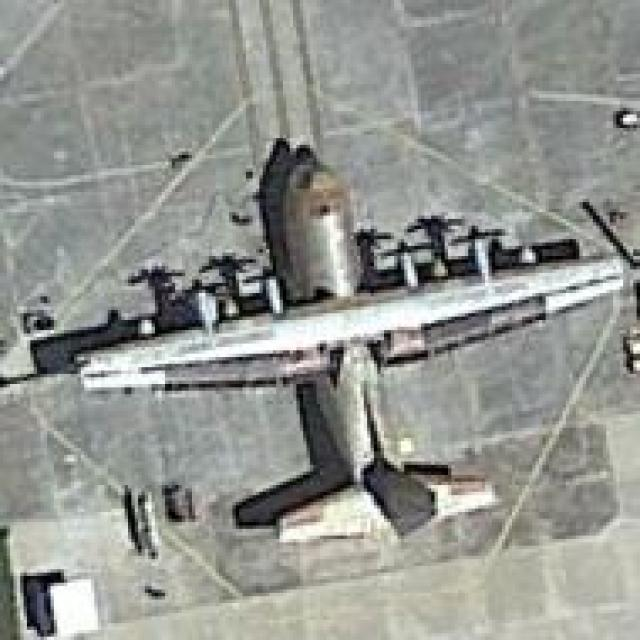C-130_TopDown: (28, 128, 627, 542)
